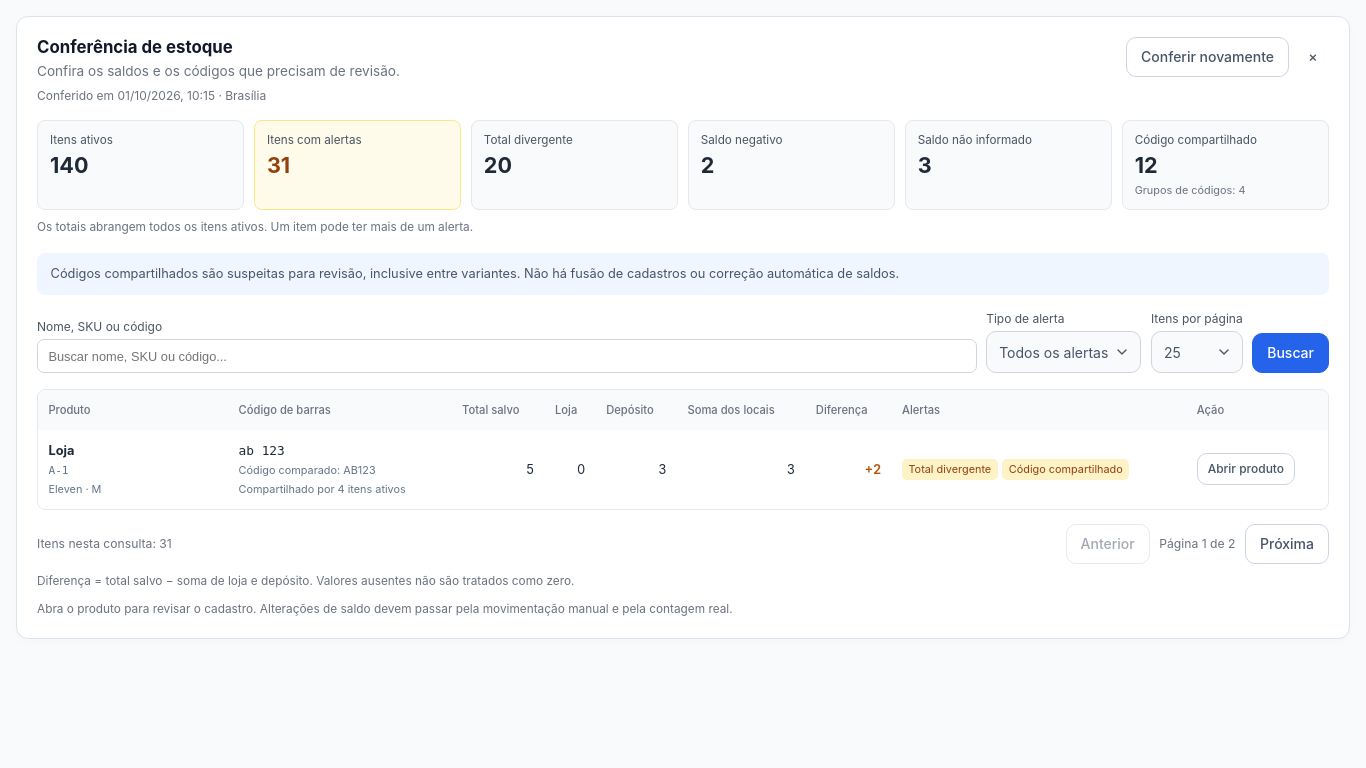
Scenario: Inventory diagnostics › paginates and returns to a valid page after a correction removes the last page
Expected: the table is shown, [38,430,1328,509]
Click the button "Próxima" at point(1287, 544), box [1245,524,1329,564]
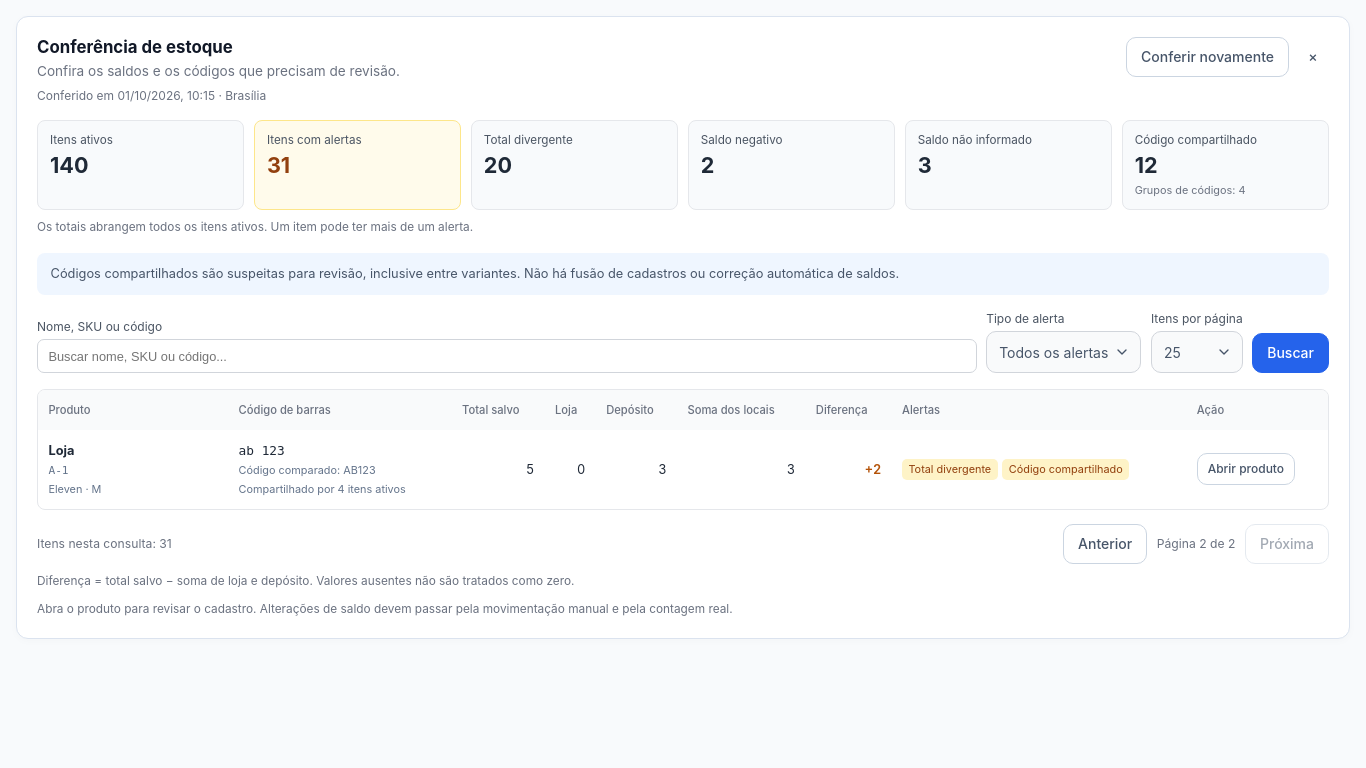
Expected: the table is shown, [38,430,1328,509]
Expected: the text "Página 2 de 2" is shown, [1157,536,1235,551]
Expected: the button "Próxima" is disabled, [1245,524,1329,564]
Click the button "Conferir novamente" at point(1208, 57), box [1126,37,1289,77]
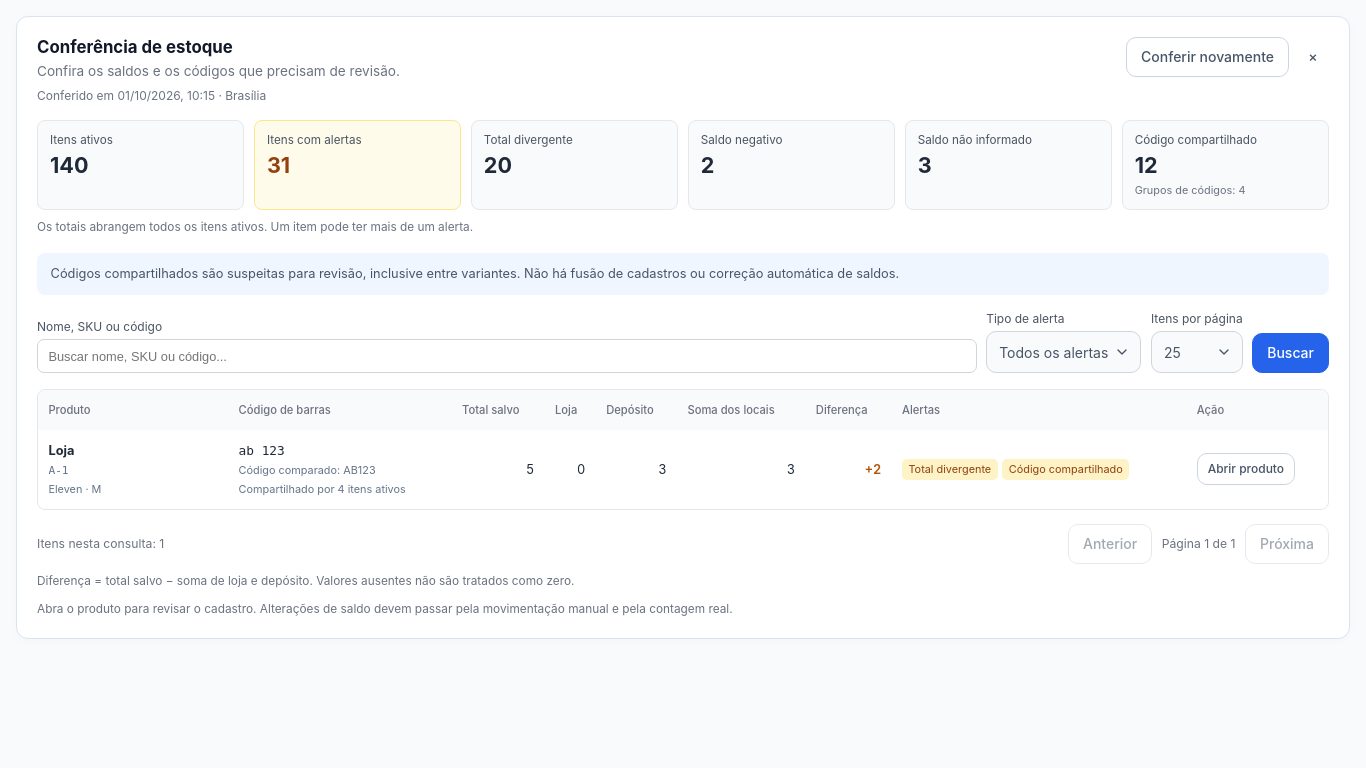
Expected: the table is shown, [38,430,1328,509]
Expected: the text "Página 1 de 1" is shown, [1162,536,1235,551]
